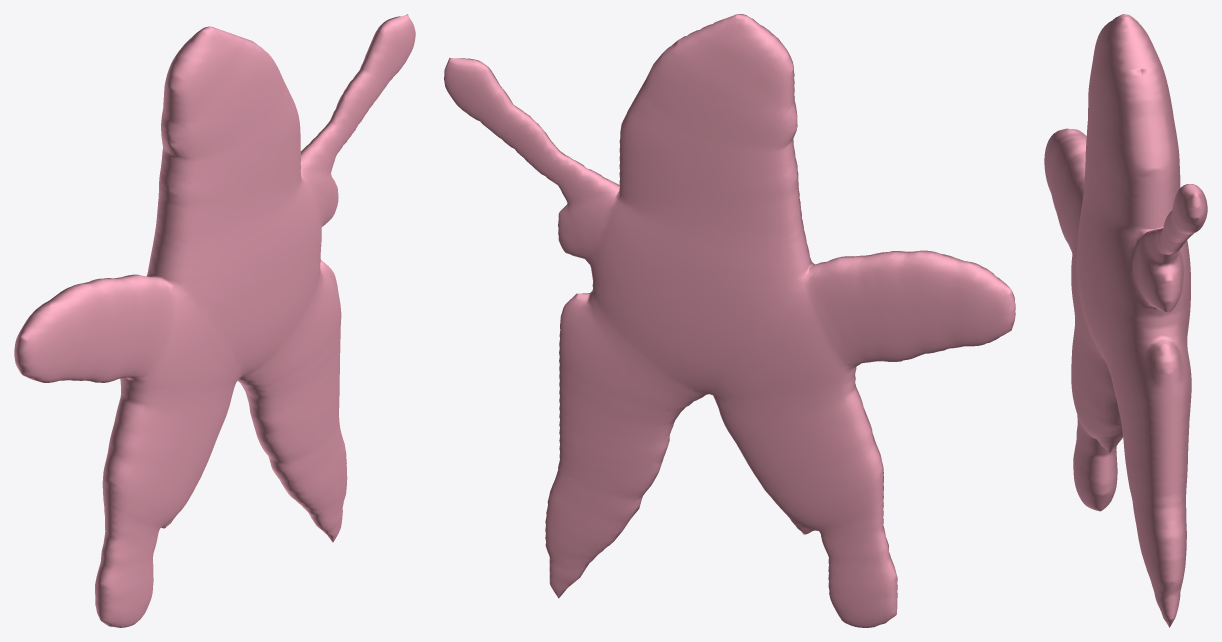
The model's file is pinky1.fbx.
3 views of the same model, side by side, from view 1: azimuth 30°, elevation 25°; view 2: azimuth 150°, elevation 25°; view 3: azimuth 270°, elevation 25° (orthographic). The views are drawn at different scales.
Visible parts, largest first — view 1: root; view 2: root; view 3: root.
Boxes of the visible parts, box(x1,y1,x2,y2) form: root: box(14, 14, 415, 627); root: box(444, 14, 1015, 627); root: box(1044, 14, 1207, 627).
Size of the model in its own units: 0.2991 by 0.3492 by 0.095.
Materials: 1 (1 with a texture image).
